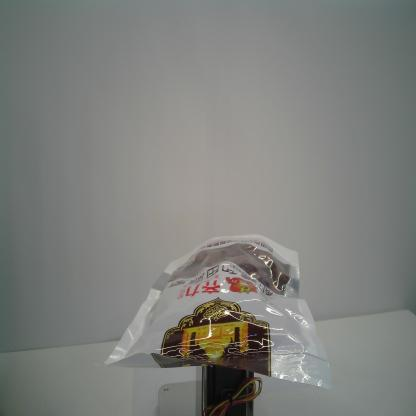Dried Food: (103, 230, 333, 395)
